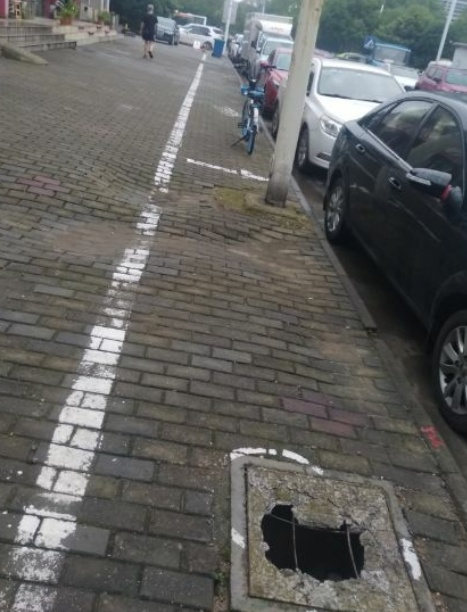broke: (228, 452, 441, 612)
